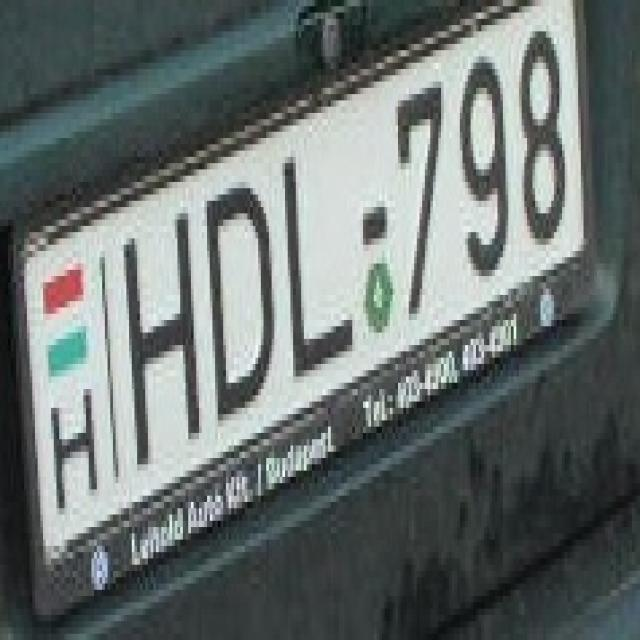7: (393, 75, 441, 333)
8: (516, 12, 565, 244)
9: (454, 50, 511, 295)
D: (204, 170, 274, 414)
H: (124, 207, 202, 477)
L: (282, 138, 360, 377)
